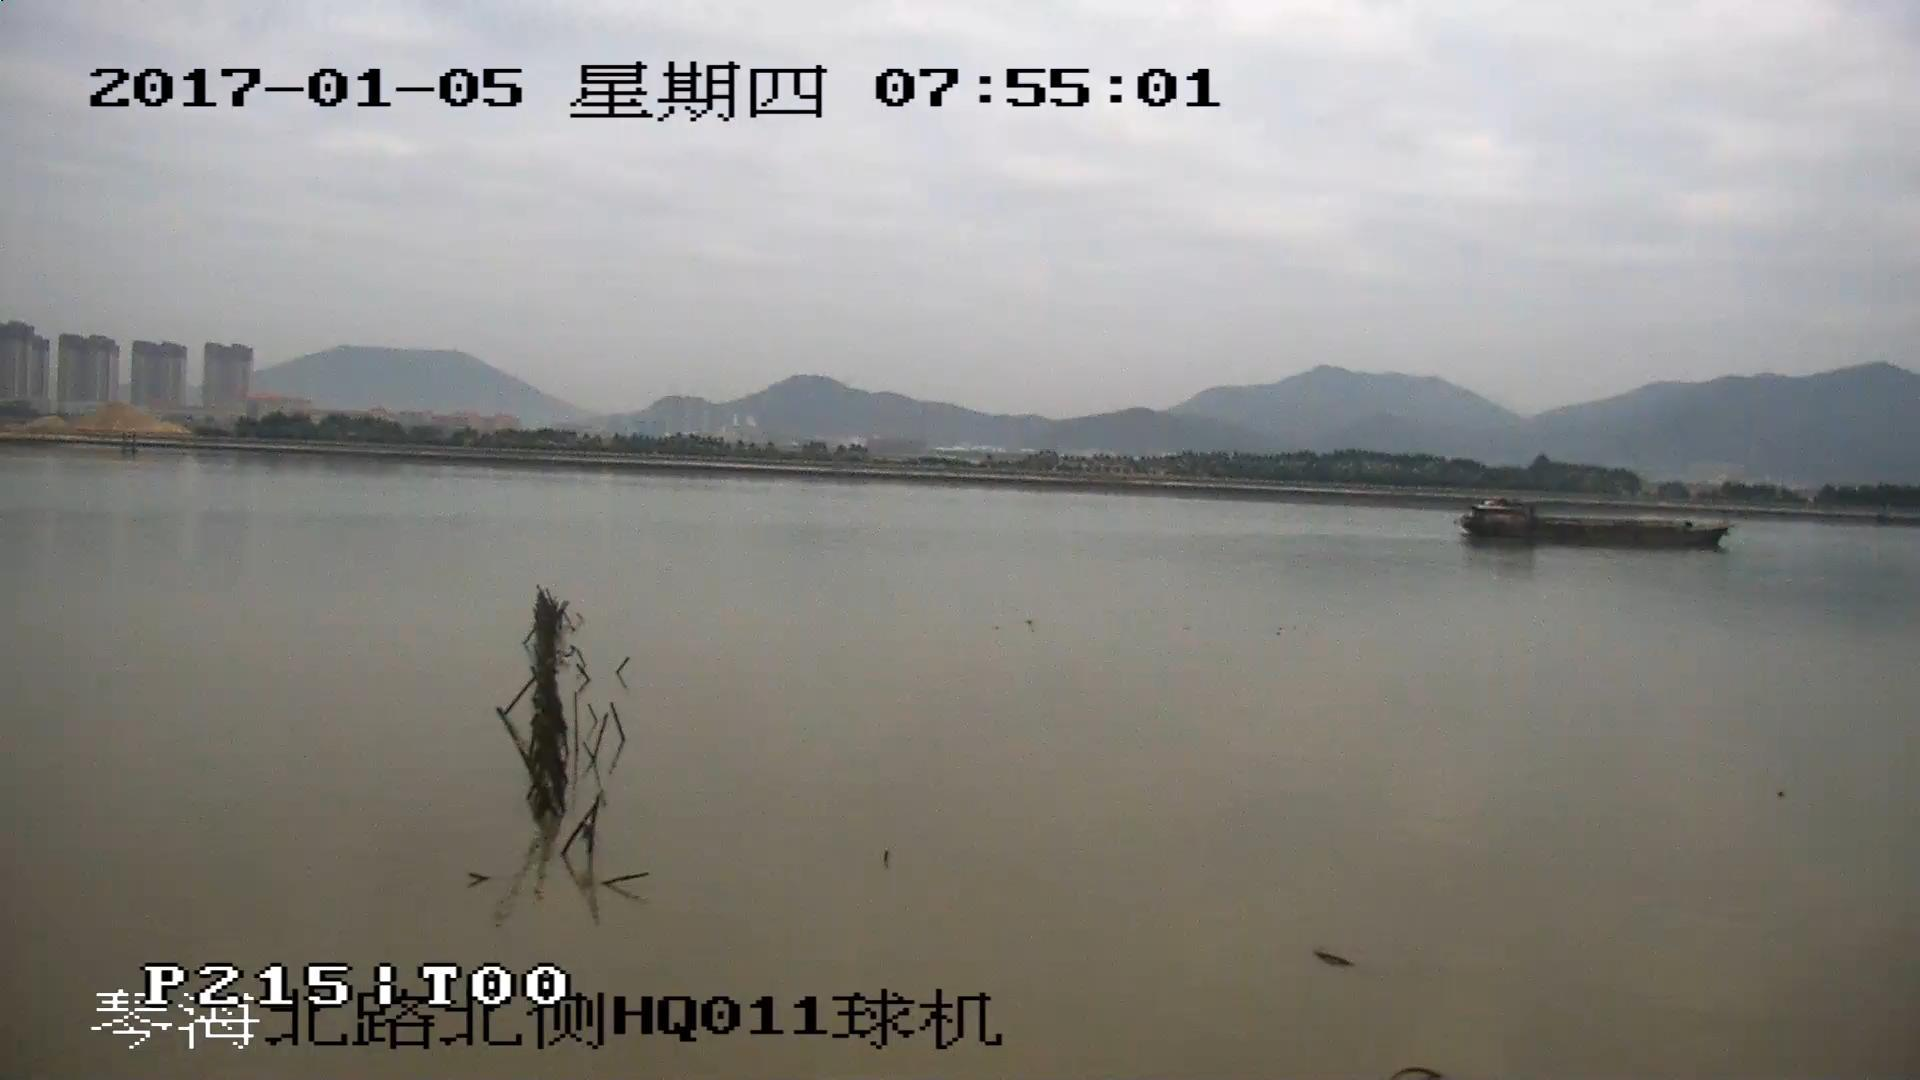Ship: (1455, 498, 1730, 550)
